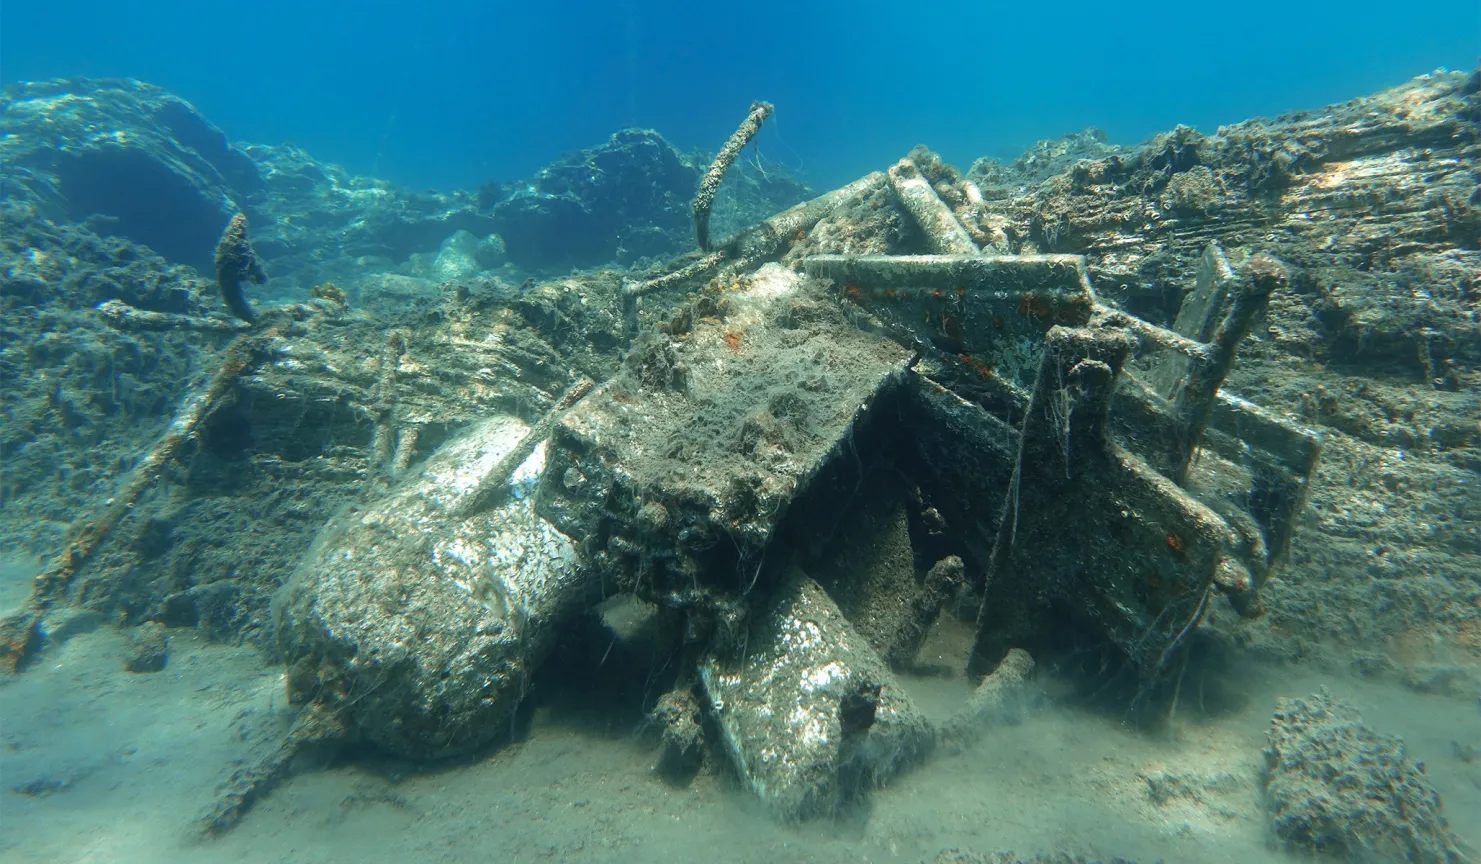Metal: (933, 245, 1322, 728), (533, 256, 931, 595), (274, 402, 584, 778), (684, 571, 925, 834), (676, 97, 791, 252), (204, 209, 267, 334)
